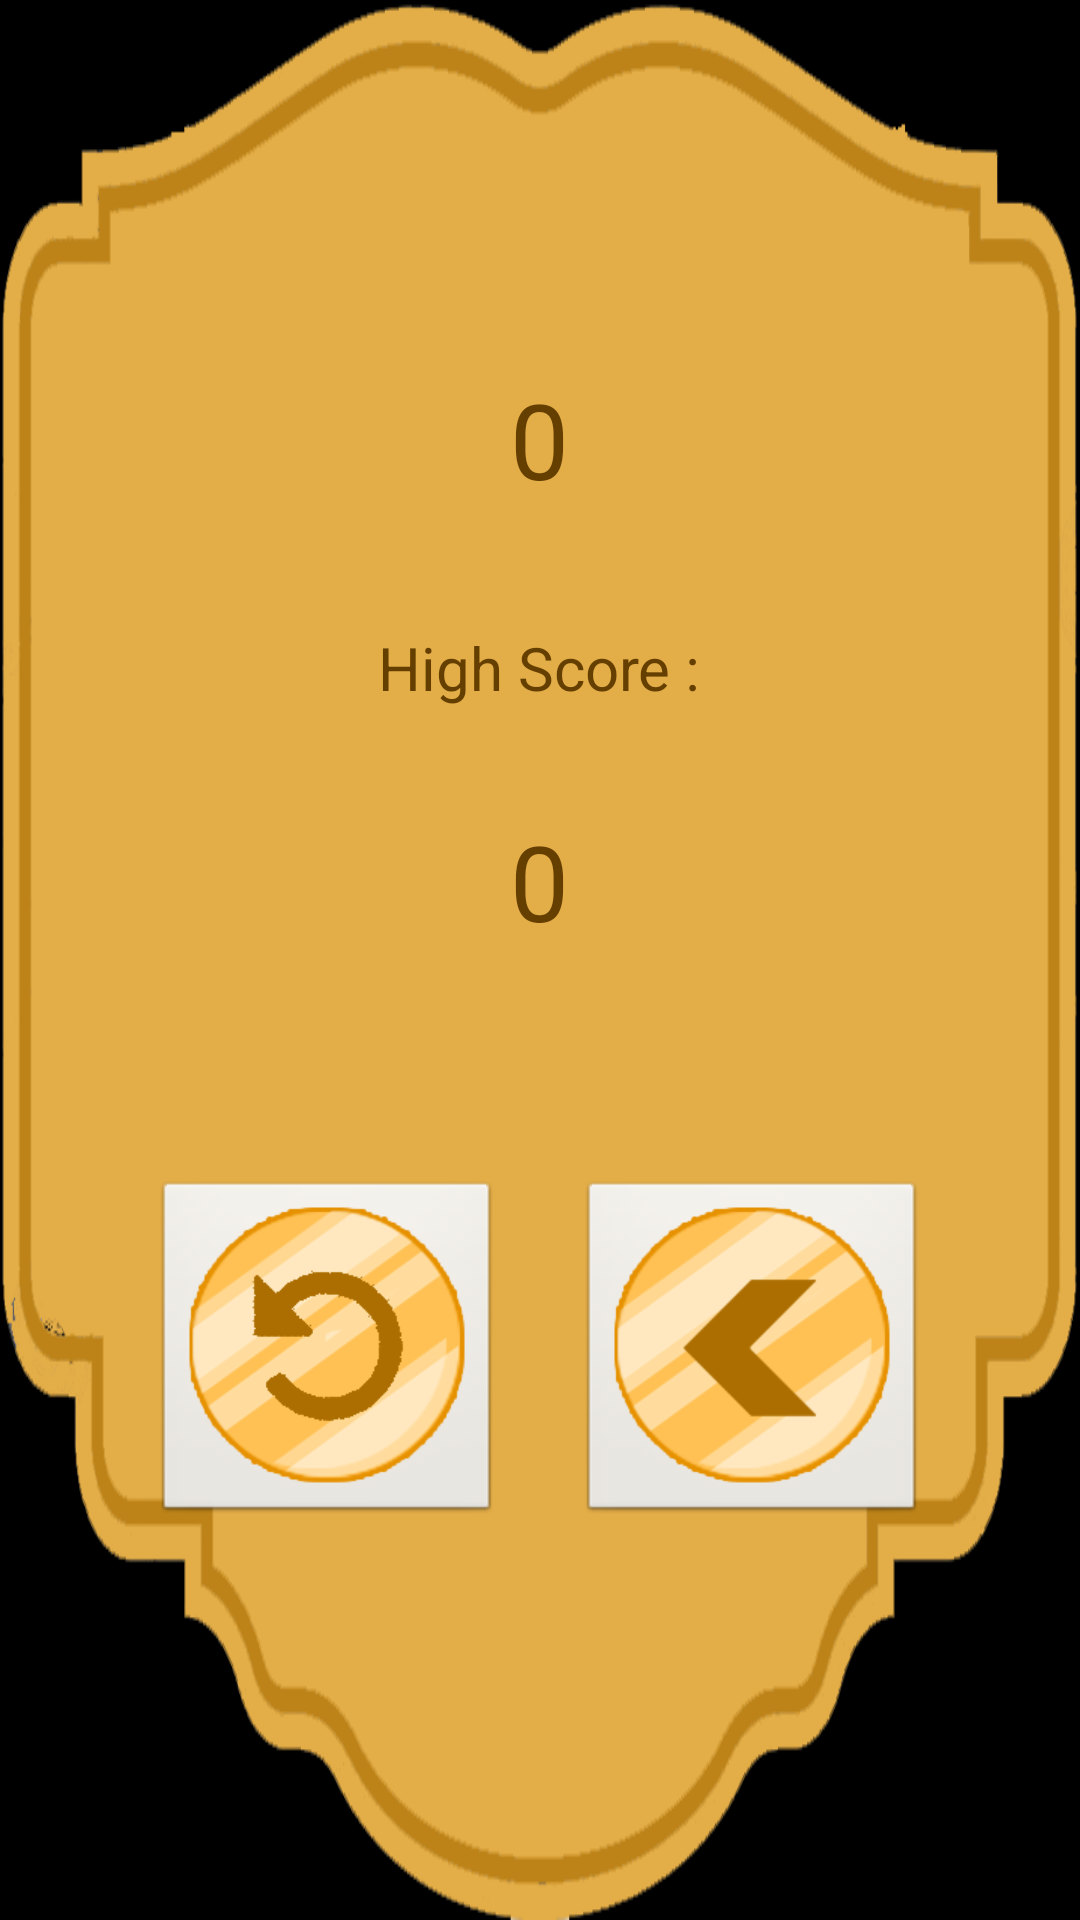

Icons on this 1080px x 1920px Android screen, each with the point to tap as (x,y):
back: (756,1354)
replay: (322,1354)
